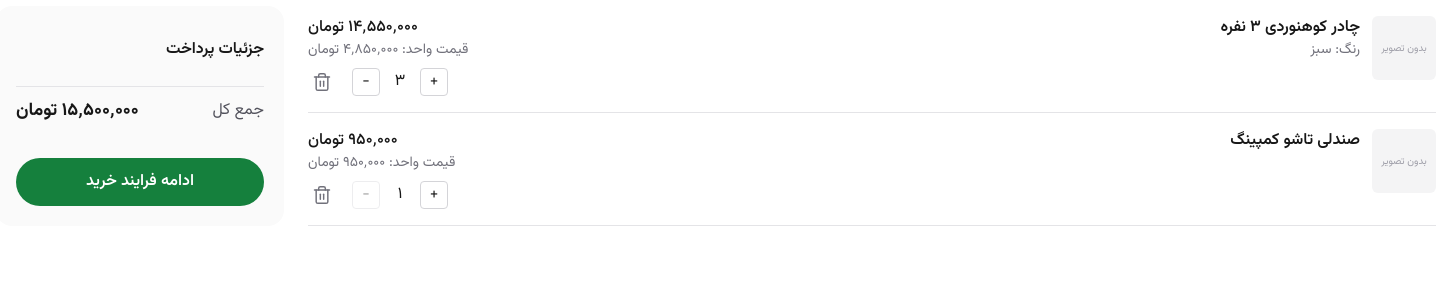
Test: CartPageContent › shows a fallback message and recovers when removing an item fails with a non-CartError
Click the button named "حذف صندلی تاشو کمپینگ".
click(322, 195)  # box [308,181,336,209]
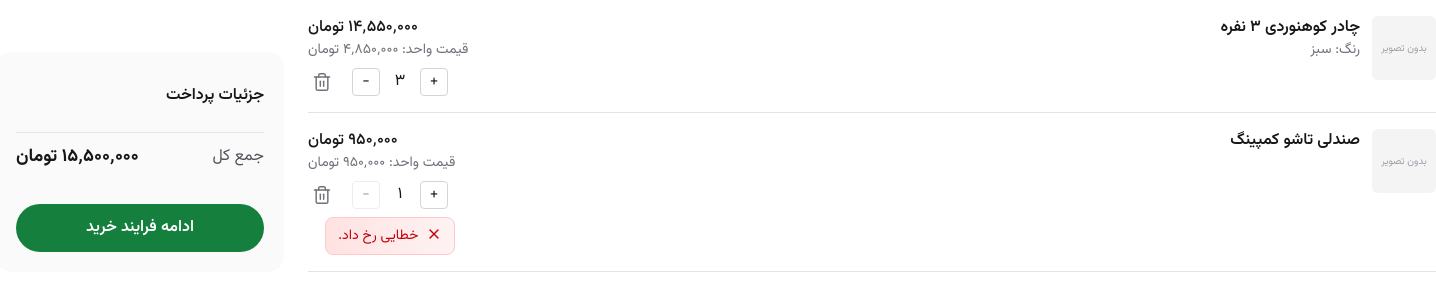
Expected: the link "صندلی تاشو کمپینگ" is shown, [1230,128,1360,153]
Expected: the message reads "خطایی رخ داد.", [338,225,418,247]
Click the button named "حذف صندلی تاشو کمپینگ".
click(322, 195)  # box [308,181,336,209]
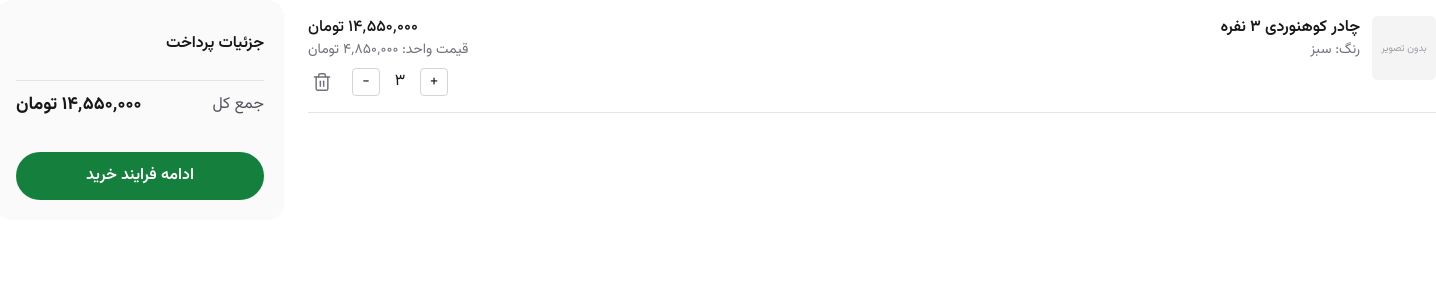
Expected: the link "صندلی تاشو کمپینگ" is gone
